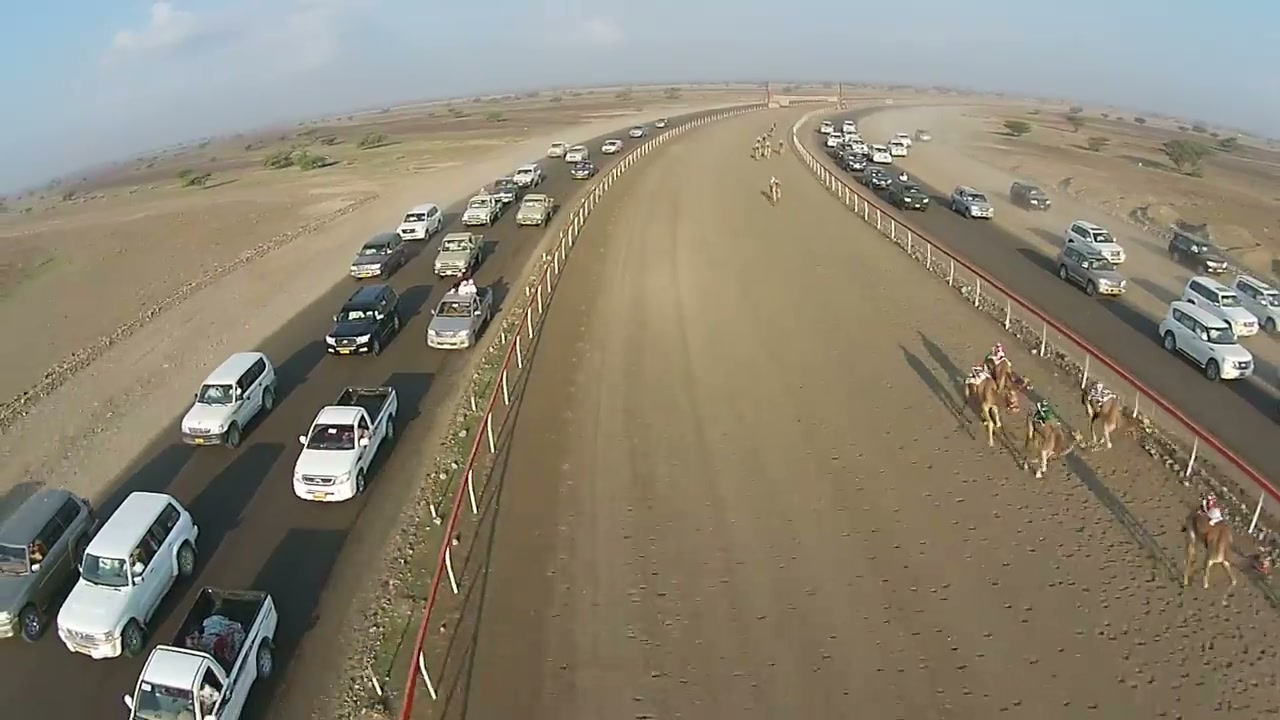animal_foot_print: (928, 437, 1279, 704)
